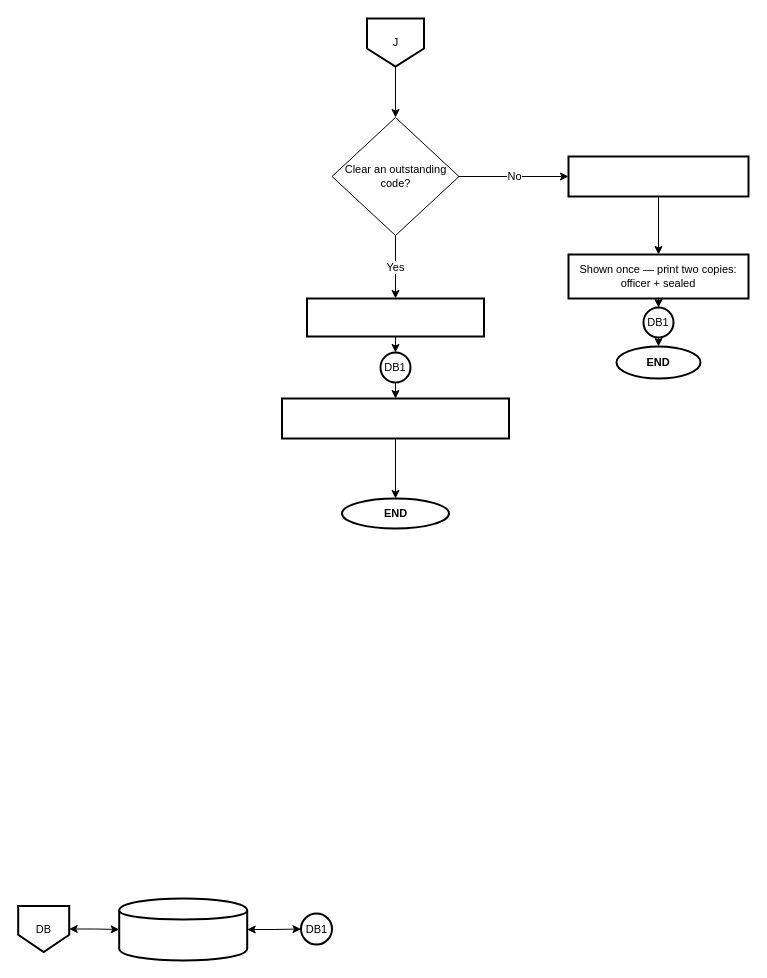
Some shapes in this 767 by 978 pixel diagram are drawn without their labels. Each missing label, with the box of its shape:
Clear the code + lock in the Database: (306, 297, 484, 337)
Database: (118, 897, 248, 961)
Fresh code goes out at the next sign-in: (280, 397, 510, 439)
Issue fresh recovery codes — saved to the Database: (567, 155, 749, 197)
